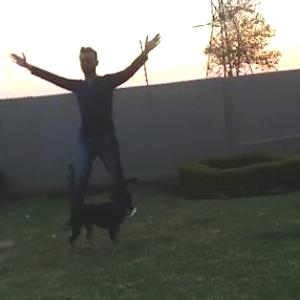takeoff: (18, 36, 154, 209)
